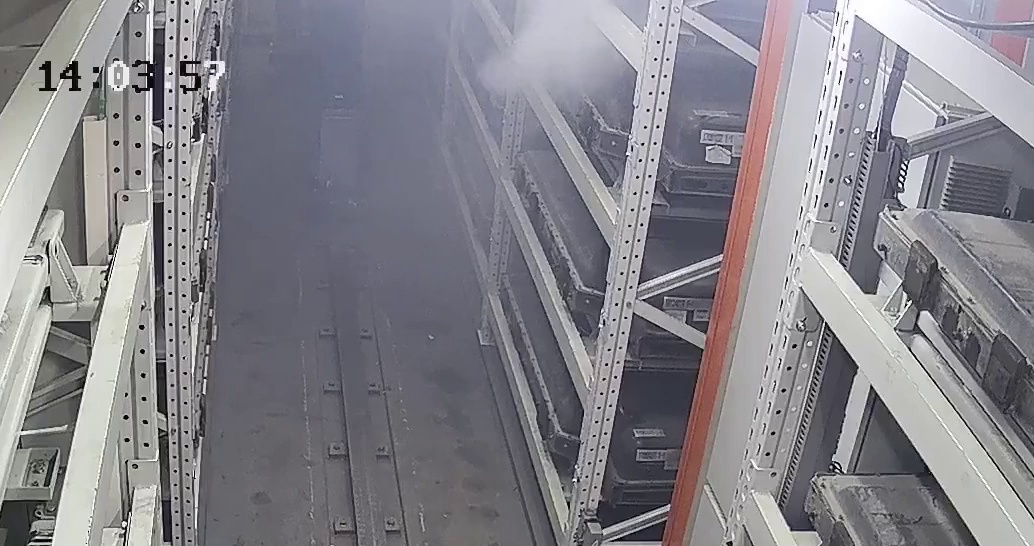smoke: (482, 13, 612, 111)
